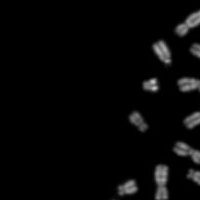chromosome: (176, 5, 200, 36), (173, 140, 200, 163), (154, 165, 170, 200), (152, 39, 170, 64), (128, 112, 147, 132), (178, 78, 200, 95), (117, 179, 136, 196), (183, 110, 200, 127), (190, 43, 200, 67), (186, 168, 200, 185), (142, 78, 157, 91)
